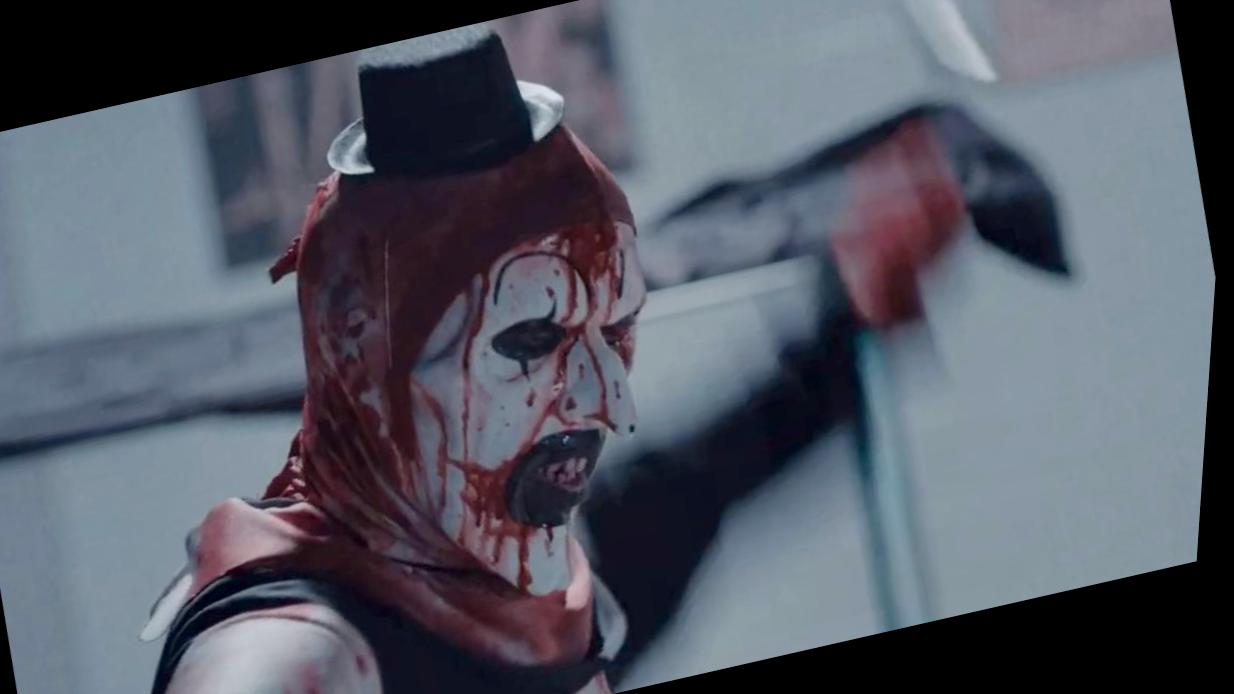Fire: (161, 22, 655, 694), (832, 111, 972, 326)
